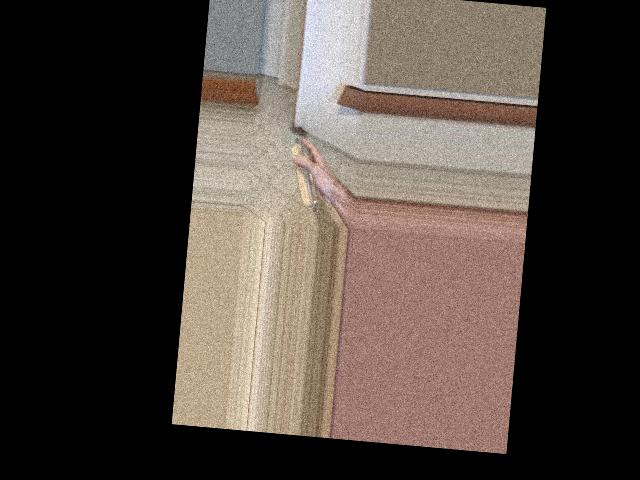cheese: (278, 133, 340, 202)
